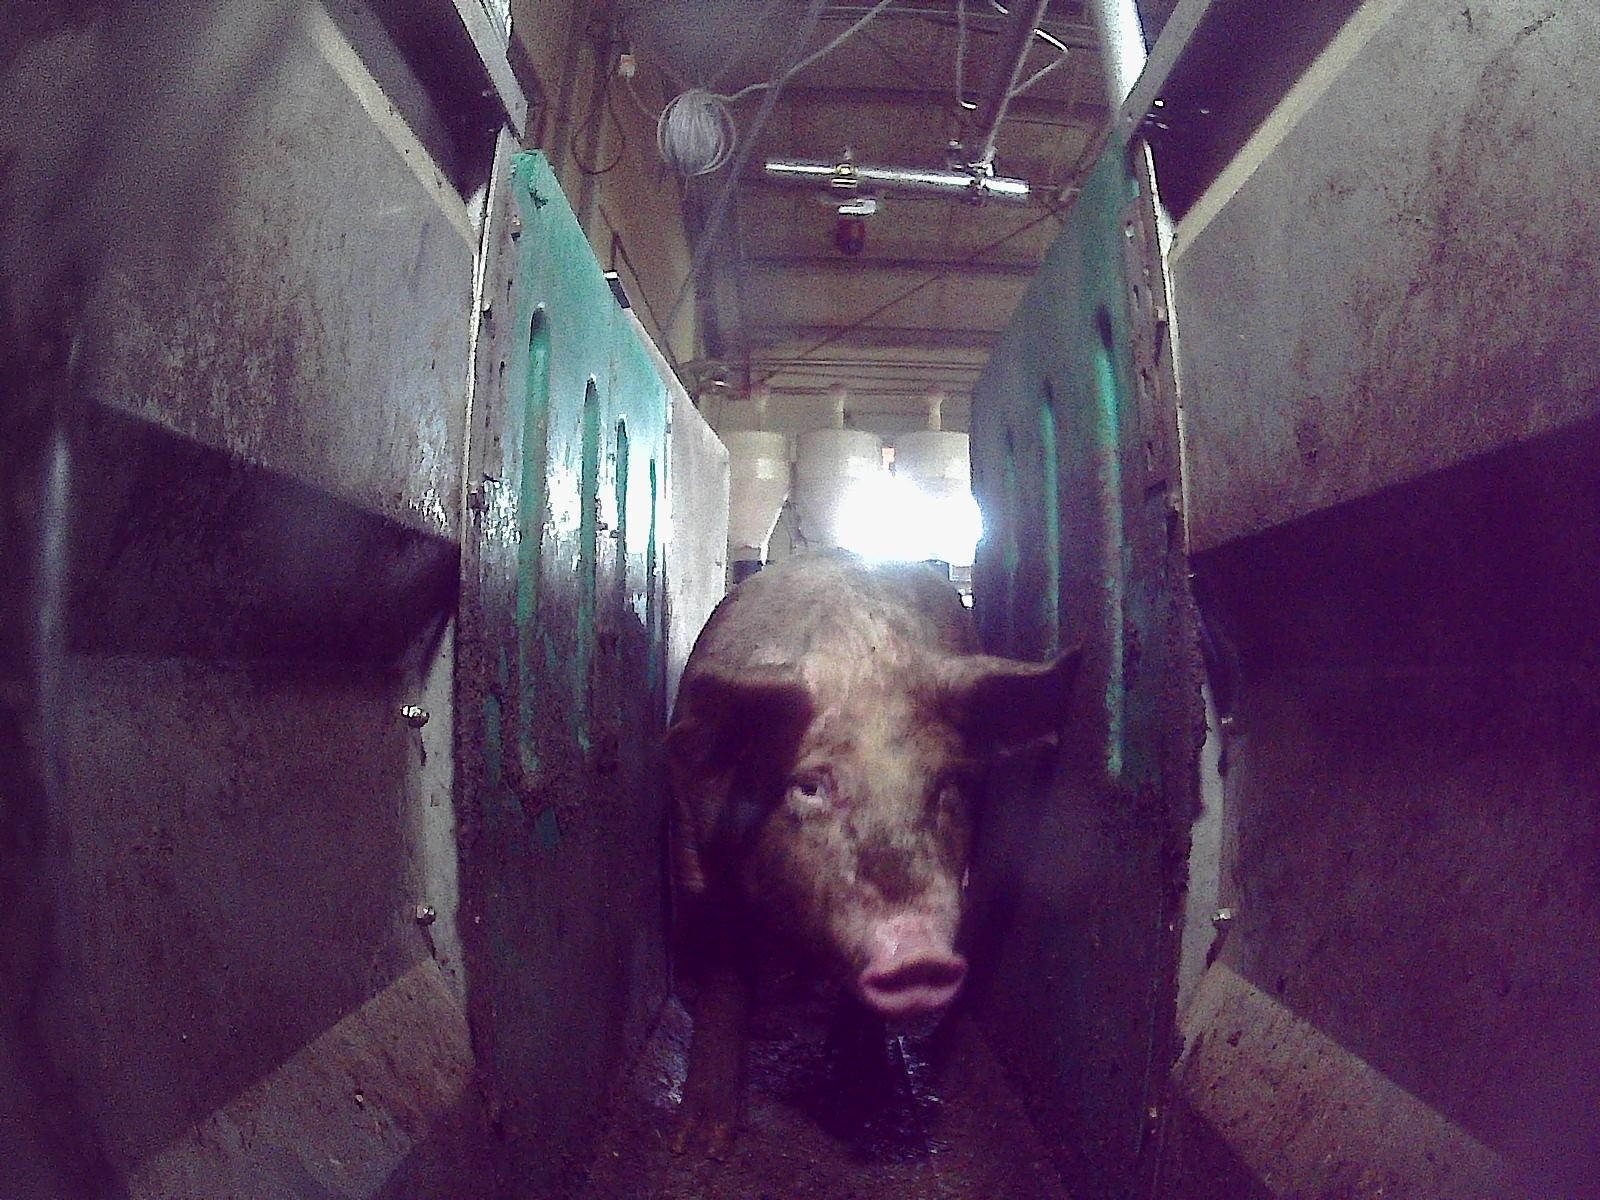Face: (739, 674, 981, 1014)
